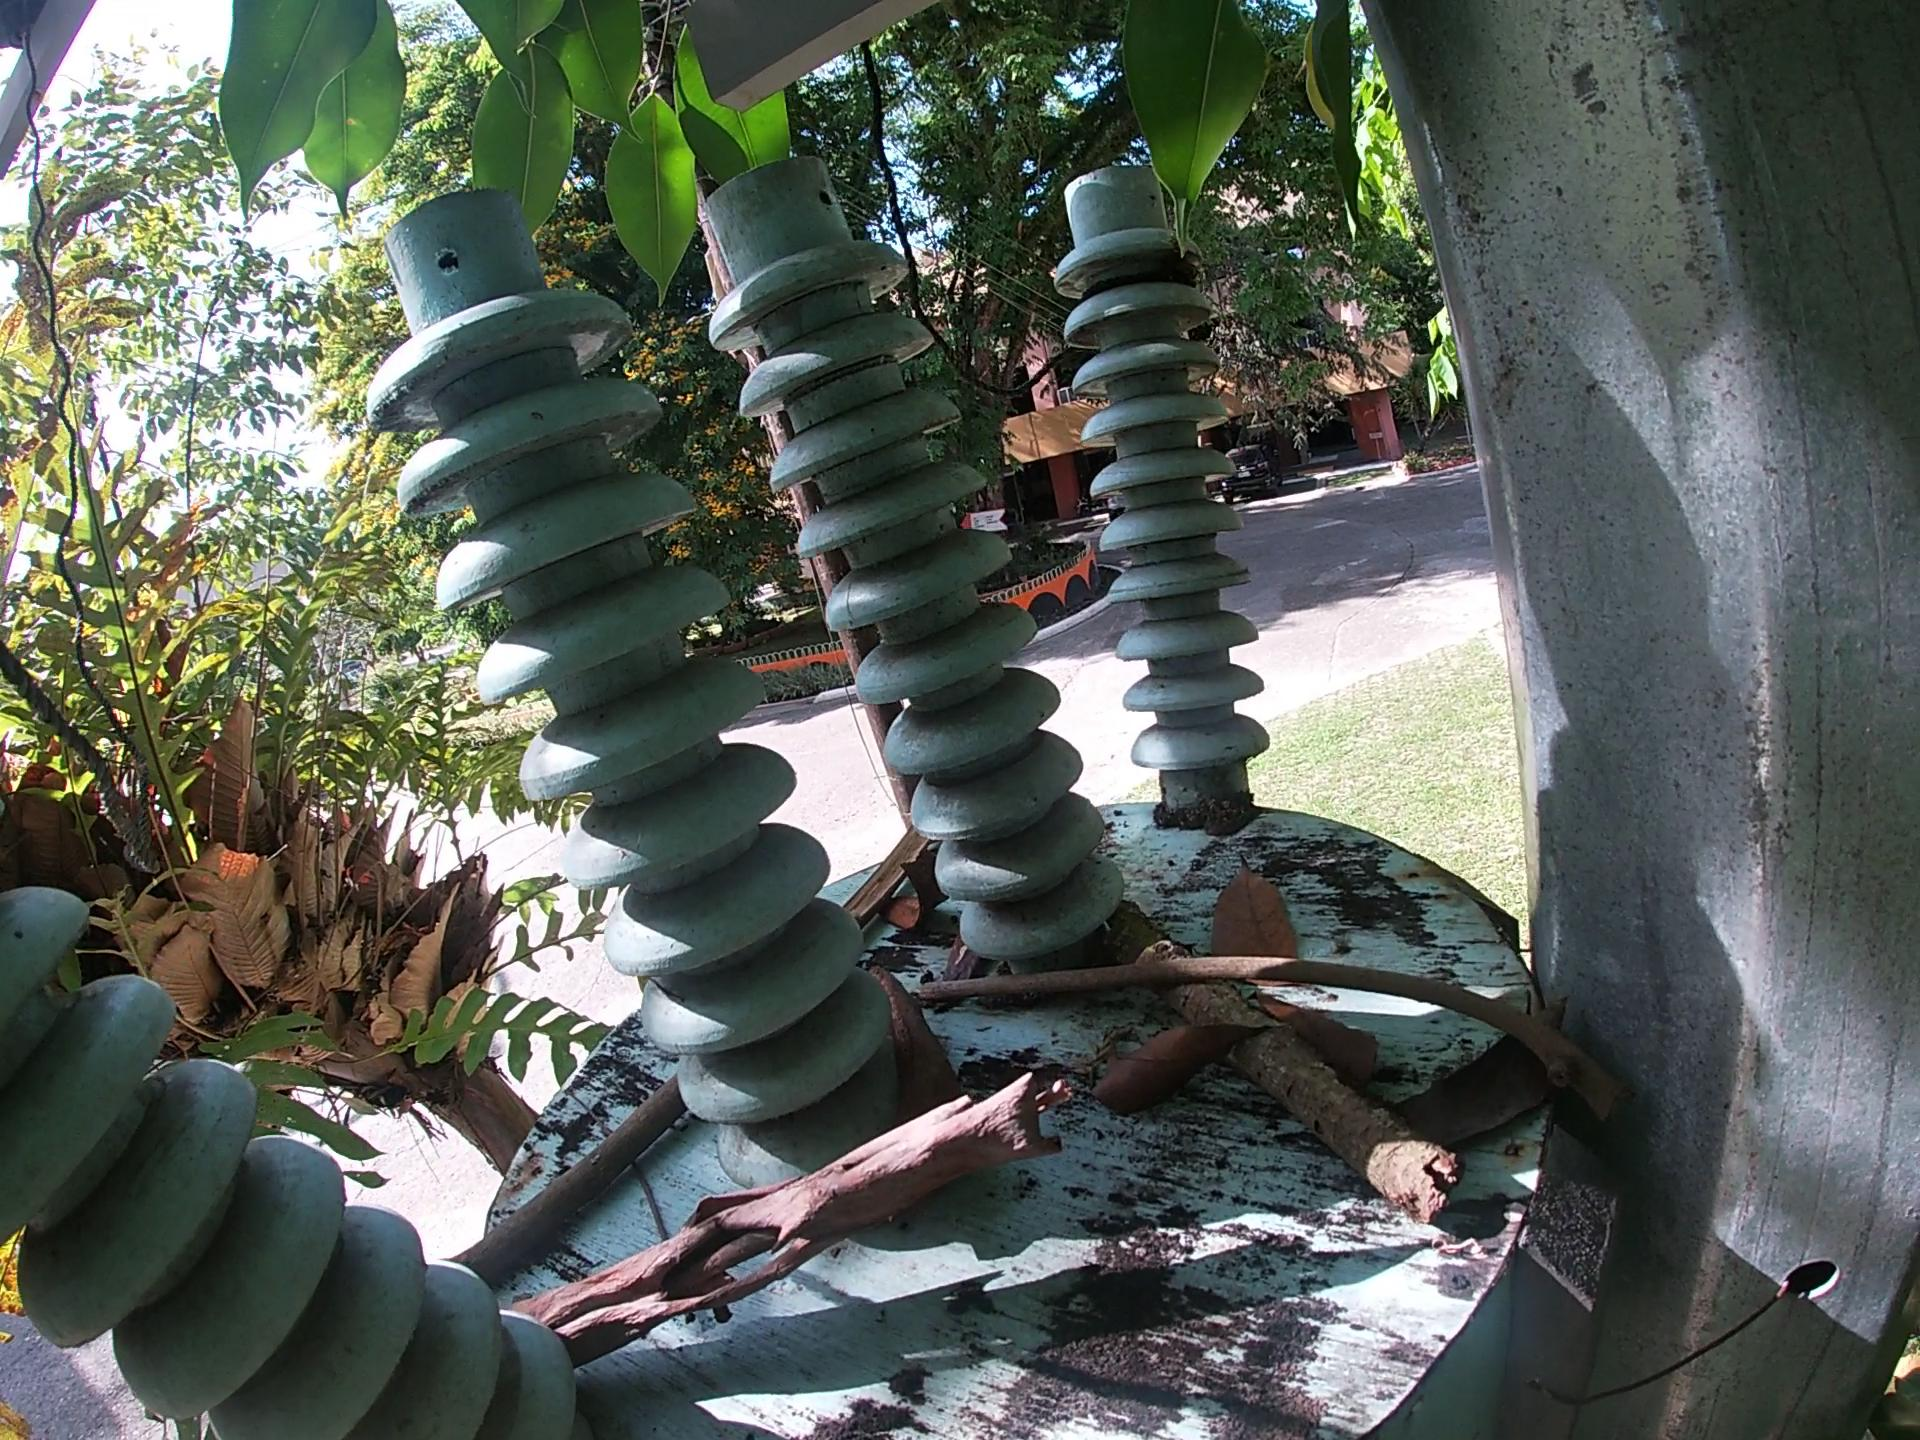leaf: (1383, 995, 1577, 1145), (1089, 1015, 1281, 1122), (1265, 988, 1391, 1103), (1209, 858, 1309, 985)
mahogany fruit: (866, 956, 963, 1141), (877, 844, 958, 935)
tree branch: (497, 1045, 1081, 1361), (1101, 888, 1469, 1233), (898, 961, 1643, 1127), (438, 1072, 697, 1295), (841, 821, 934, 938)
